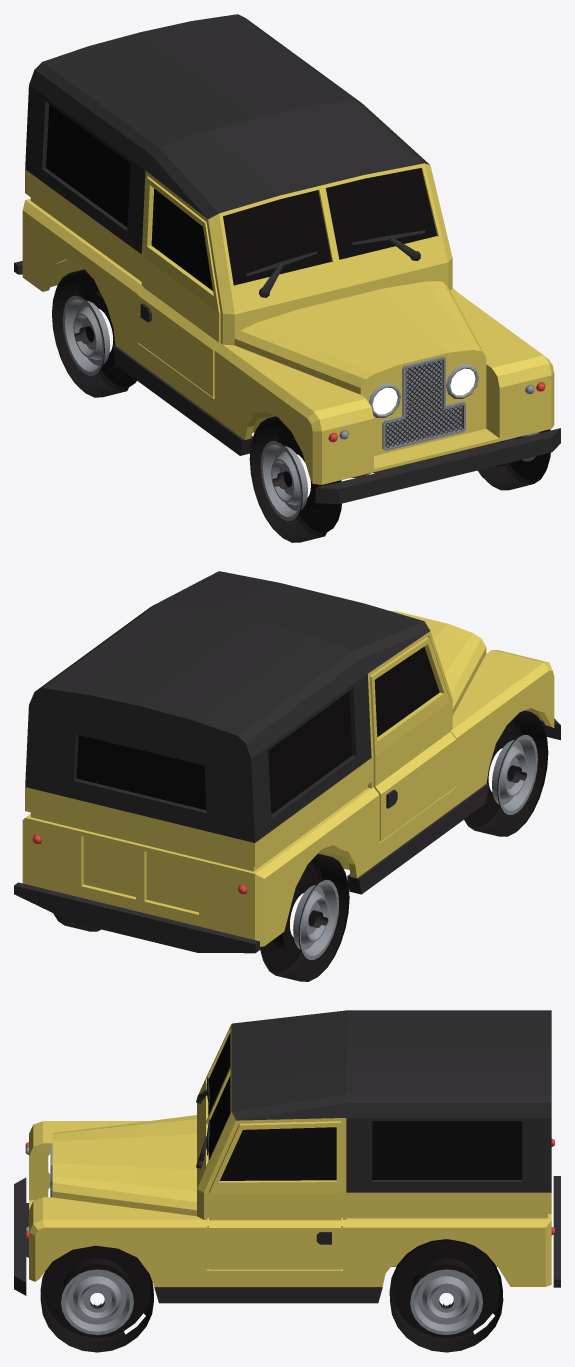
The picture shows the model from 3 angles, top to bottom: view 1: azimuth 30°, elevation 25°; view 2: azimuth 150°, elevation 25°; view 3: azimuth 270°, elevation 25°; orthographic projection. The views are drawn at different scales.
Visible parts, largest first — view 1: Object_2, Object_7, Object_5, Object_10, Object_8, Object_9, Object_3; view 2: Object_7, Object_2, Object_5, Object_10, Object_9; view 3: Object_2, Object_7, Object_5, Object_10, Object_9.
Part boxes in pixels (x1,y1,x2,y2): Object_2: (22,163,554,484); Object_7: (14,14,560,504); Object_5: (46,104,437,290); Object_10: (52,269,550,542); Object_8: (339,356,534,450); Object_9: (62,295,540,520); Object_3: (372,368,475,414); Object_7: (14,571,560,953); Object_2: (22,610,554,946); Object_5: (76,646,439,814); Object_10: (53,710,548,981); Object_9: (293,735,537,959); Object_2: (29,1024,551,1286); Object_7: (14,1010,560,1303); Object_5: (208,1033,522,1180); Object_10: (40,1239,503,1352); Object_9: (61,1269,482,1334).
Bounding box in the file's own units: 2.16 × 2.34 × 4.57.
9 materials, 9 textured.
